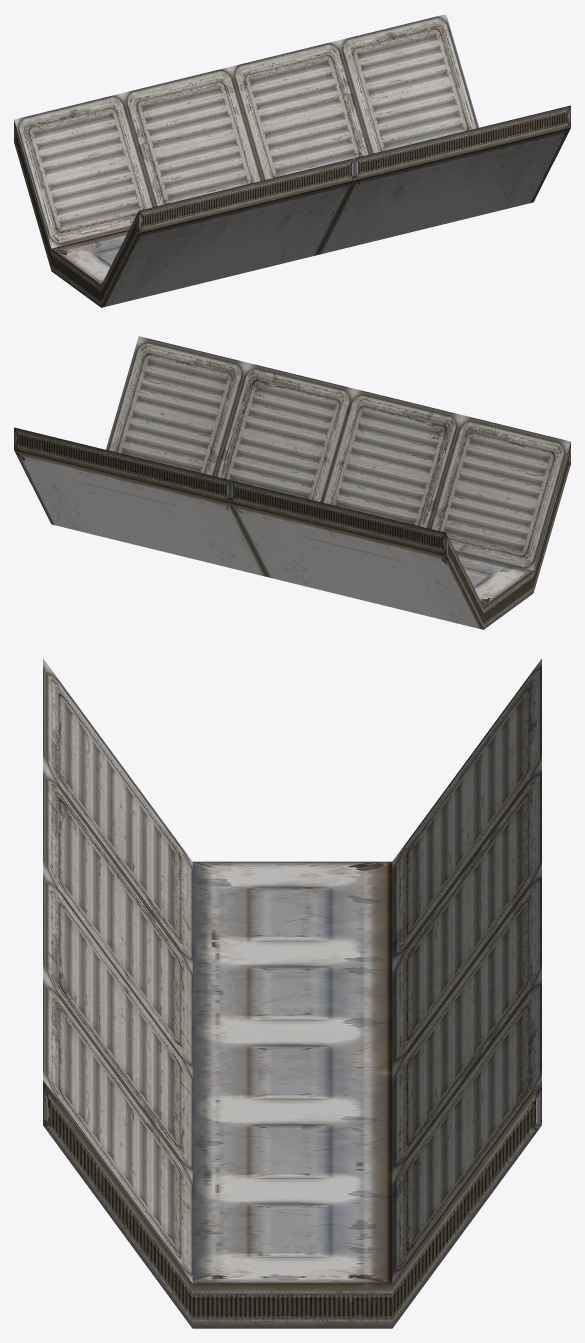
Rendered from scifi_pit_3.FBX.
3 views of the same model, one above another, from view 1: azimuth 30°, elevation 25°; view 2: azimuth 150°, elevation 25°; view 3: azimuth 270°, elevation 25° (orthographic). The views are drawn at different scales.
Visible parts, largest first — view 1: Plane082; view 2: Plane082; view 3: Plane082.
Part boxes in pixels (x1,y1,x2,y2): Plane082: (14,14,570,307); Plane082: (14,336,570,629); Plane082: (43,658,541,1328).
Size of the model in its own units: 508 by 140 by 254.
